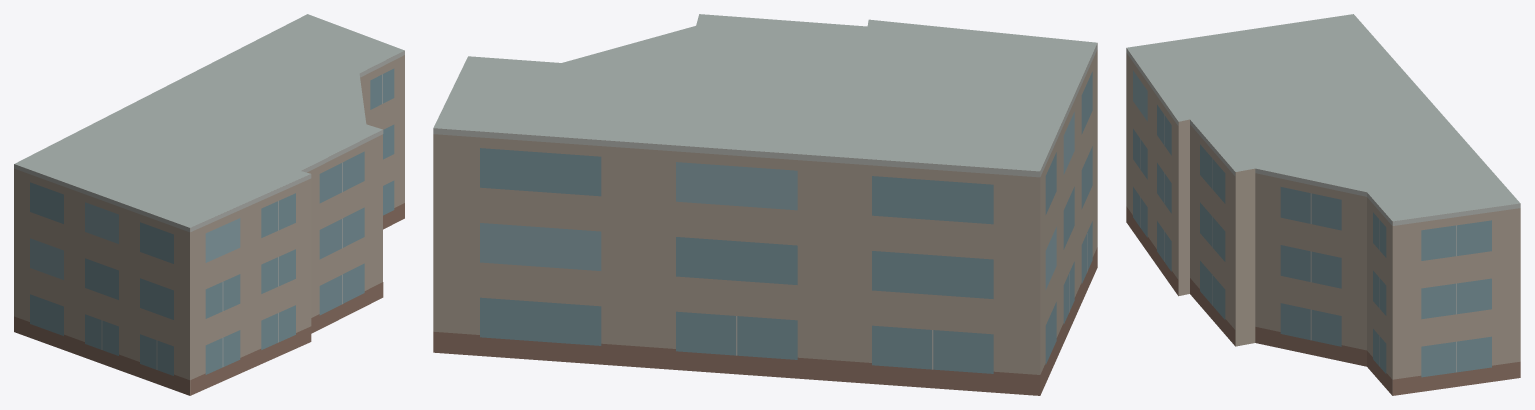
File: survey-upis-32473983.glb
3 renders of one model, left to right at view 1: azimuth 30°, elevation 25°; view 2: azimuth 150°, elevation 25°; view 3: azimuth 270°, elevation 25°, orthographic. The views are drawn at different scales.
Visible parts, largest first — view 1: survey-upis-32473983.tmp; view 2: survey-upis-32473983.tmp; view 3: survey-upis-32473983.tmp.
Part boxes in pixels (x1=…): survey-upis-32473983.tmp: x1=14, y1=14, x2=404, y2=395; survey-upis-32473983.tmp: x1=433, y1=14, x2=1097, y2=395; survey-upis-32473983.tmp: x1=1126, y1=14, x2=1520, y2=395.
Bounding box in the file's own units: 23.35 × 9.15 × 18.75.
